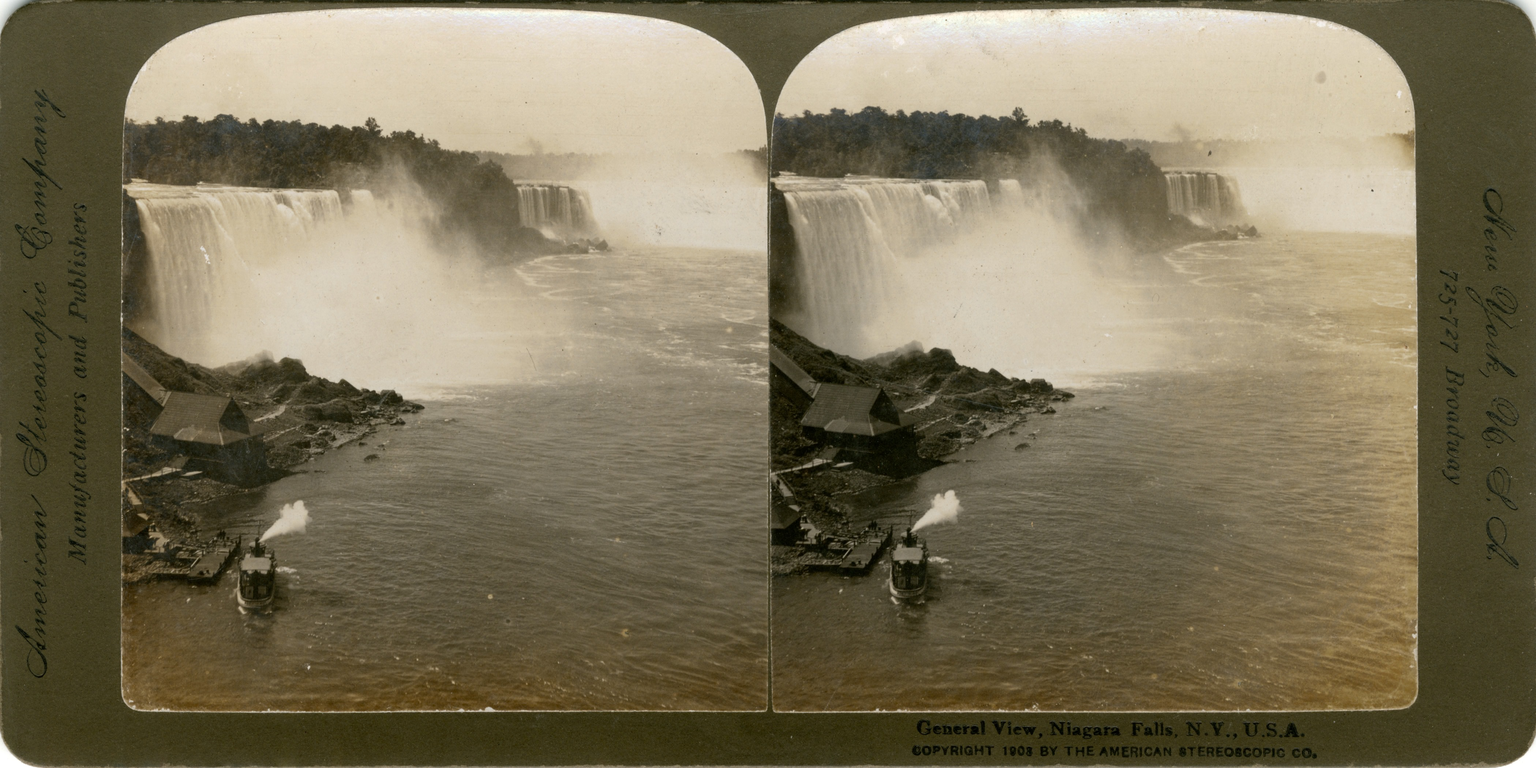half_image: (122, 7, 768, 712), (772, 7, 1418, 712)
